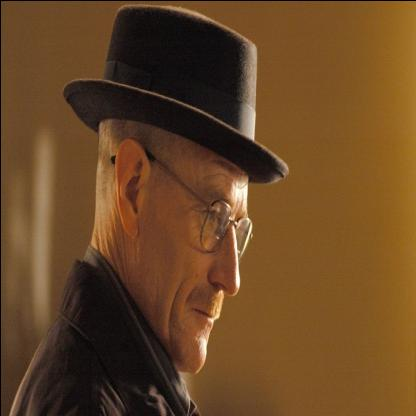glasses: (122, 148, 264, 254)
hat: (58, 3, 290, 192)
